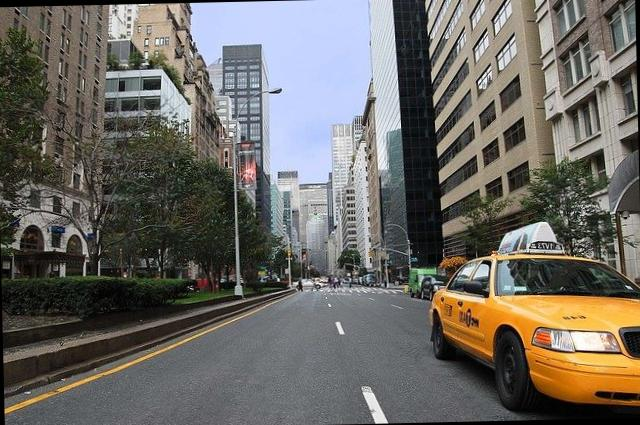taxi: (430, 245, 640, 412)
